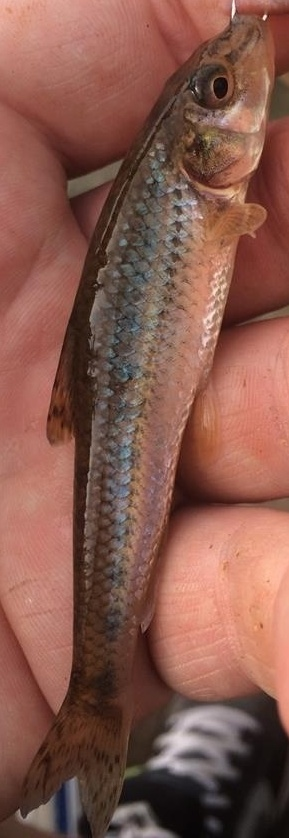Gobio gobio: (20, 20, 269, 838)
